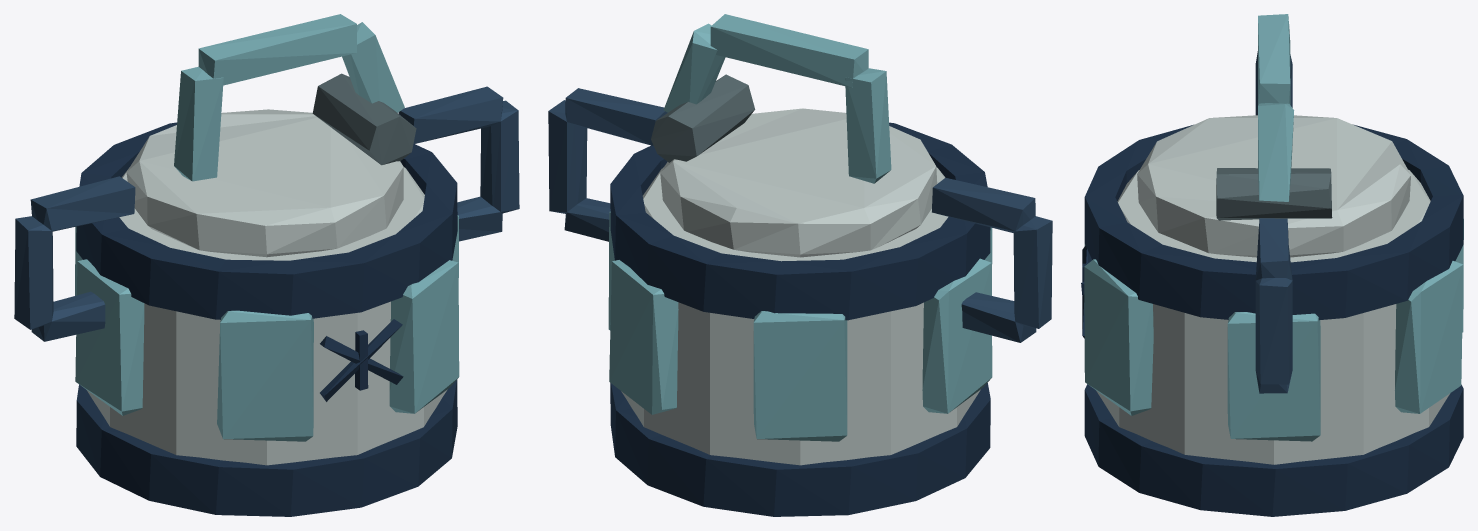
The model's file is FROST_BOMB.lo.glb.
The picture shows the model from 3 angles, left to right: view 1: azimuth 30°, elevation 25°; view 2: azimuth 150°, elevation 25°; view 3: azimuth 270°, elevation 25°; orthographic projection.
Visible parts, largest first — view 1: Body_Mesh; view 2: Body_Mesh; view 3: Body_Mesh.
Boxes of the visible parts, box(x1,y1,x2,y2) form: Body_Mesh: box(14, 14, 519, 516); Body_Mesh: box(548, 14, 1052, 516); Body_Mesh: box(1081, 14, 1463, 516).
Size of the model in its own units: 0.9084 by 0.7036 by 0.6205.
